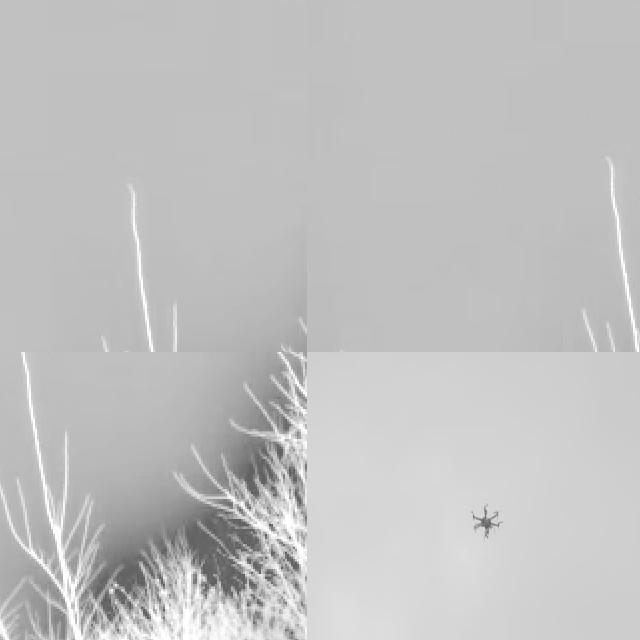drone: (468, 495, 505, 542)
